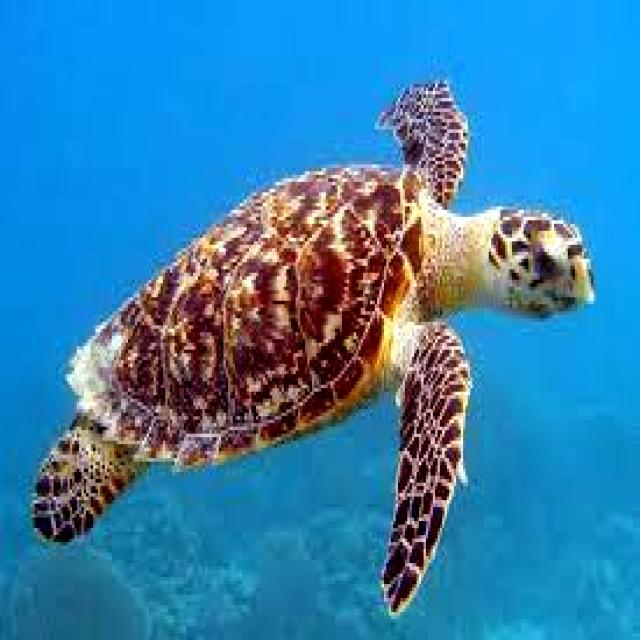Sea turtle: (21, 74, 610, 625)
